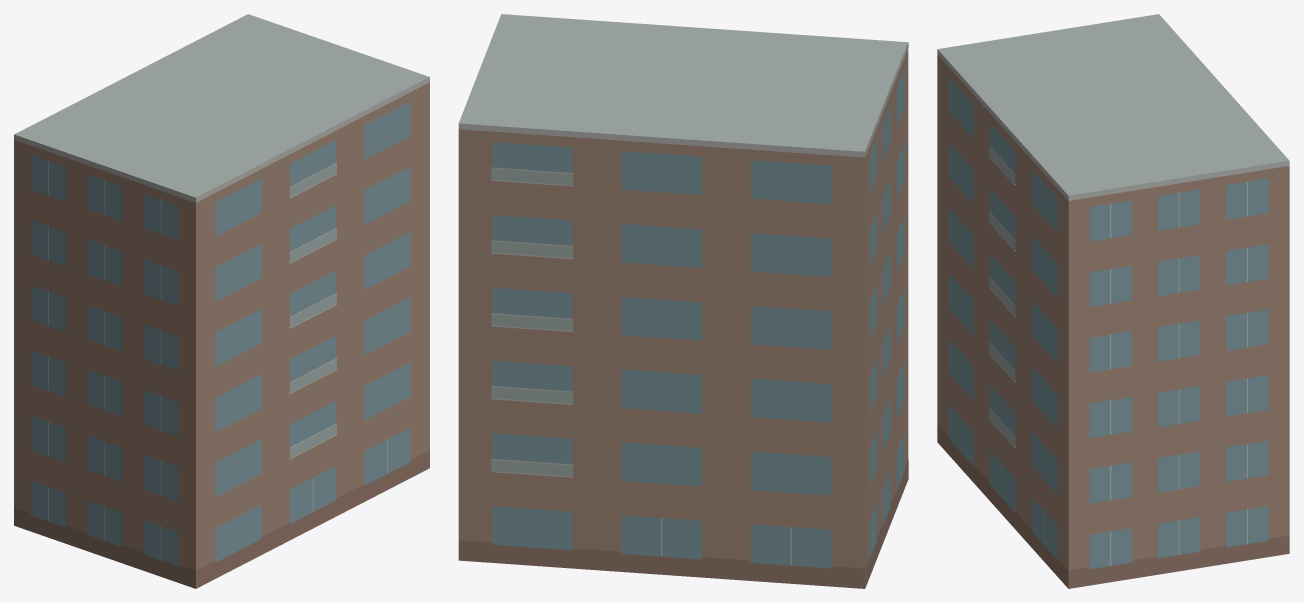
Rendered from survey-upis-33047615.glb.
3 views of the same model, side by side, from view 1: azimuth 30°, elevation 25°; view 2: azimuth 150°, elevation 25°; view 3: azimuth 270°, elevation 25° (orthographic). The views are drawn at different scales.
Visible parts, largest first — view 1: survey-upis-33047615.tmp; view 2: survey-upis-33047615.tmp; view 3: survey-upis-33047615.tmp.
Boxes of the visible parts, bbox=[...] form: survey-upis-33047615.tmp: bbox=[14, 14, 429, 588]; survey-upis-33047615.tmp: bbox=[458, 14, 908, 588]; survey-upis-33047615.tmp: bbox=[937, 14, 1289, 588].
Size of the model in its own units: 18.16 by 18.3 by 14.86.
